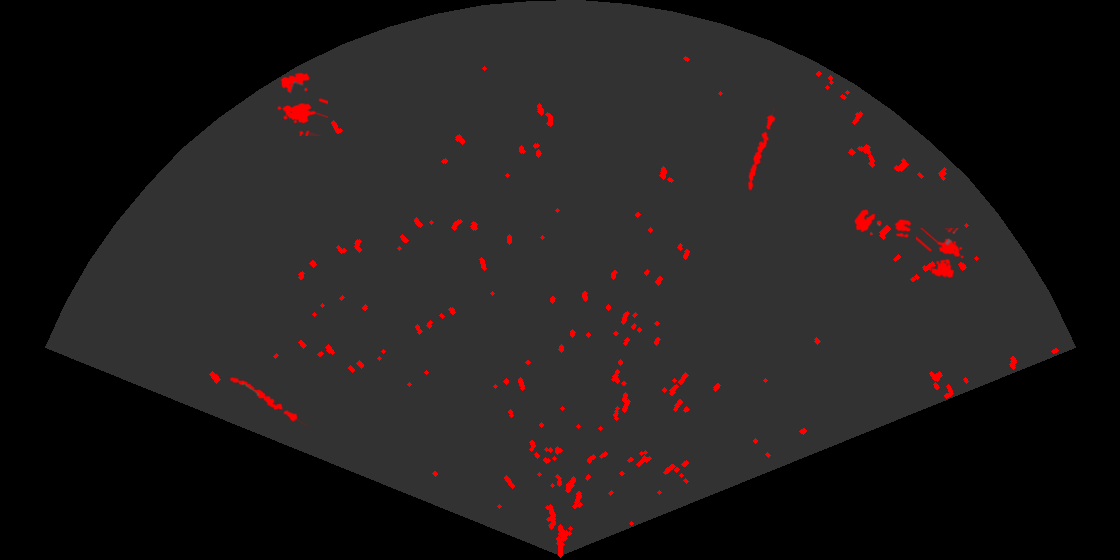ball: (853, 208, 883, 237), (893, 218, 913, 239)
cage: (276, 71, 328, 136), (916, 228, 966, 280)
chain: (228, 376, 307, 428), (746, 108, 777, 192)
